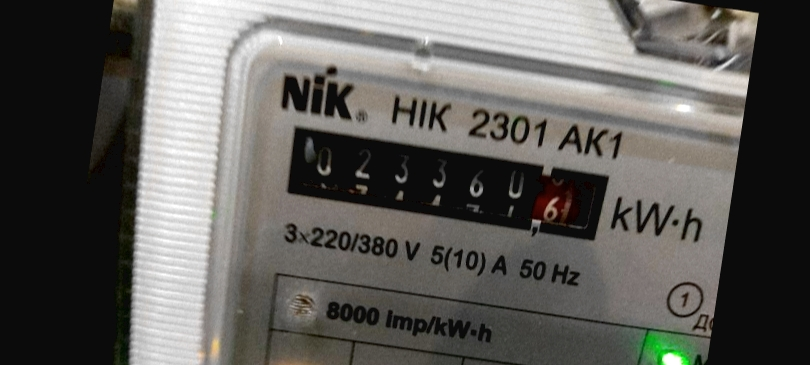0: (500, 164, 527, 202), (309, 140, 336, 177)
2: (349, 144, 375, 181)
3: (387, 149, 412, 187), (426, 154, 449, 190)
6: (462, 162, 487, 199), (537, 189, 560, 224)
screen: (266, 111, 628, 261)
